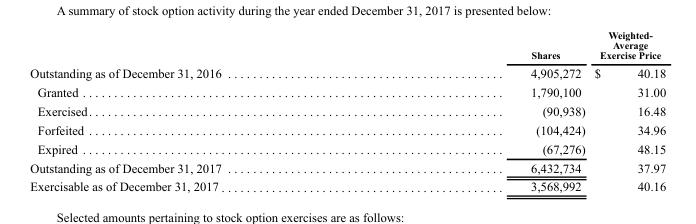table: (29, 29, 665, 193)
table column: (29, 29, 375, 193), (375, 29, 589, 193), (589, 29, 665, 193)
table column header: (29, 29, 665, 63)
table row: (29, 29, 665, 63), (29, 63, 665, 82), (29, 100, 665, 119), (29, 119, 665, 138), (29, 138, 665, 157), (29, 157, 665, 176), (29, 82, 665, 100), (29, 176, 665, 193)
